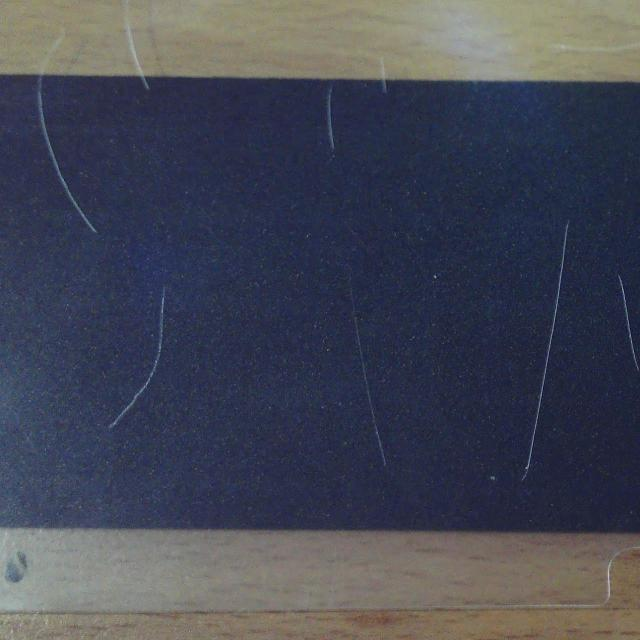defect: (525, 219, 573, 482), (36, 75, 101, 236), (112, 286, 169, 428), (354, 312, 388, 467), (621, 276, 640, 372), (326, 82, 338, 152), (137, 75, 151, 89), (380, 80, 390, 96)
